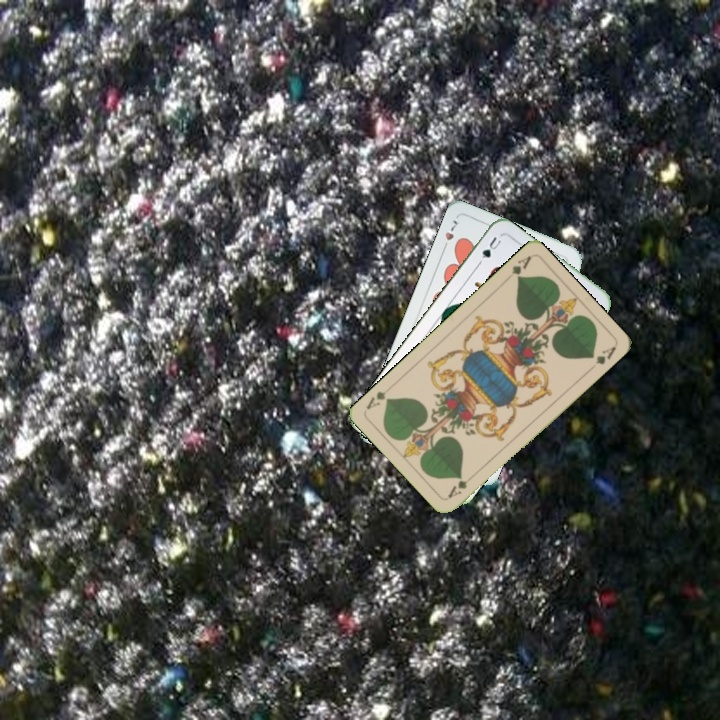GA: (443, 470, 478, 501), (507, 252, 534, 283)
GU: (474, 232, 504, 267)
H7: (439, 215, 462, 253)
